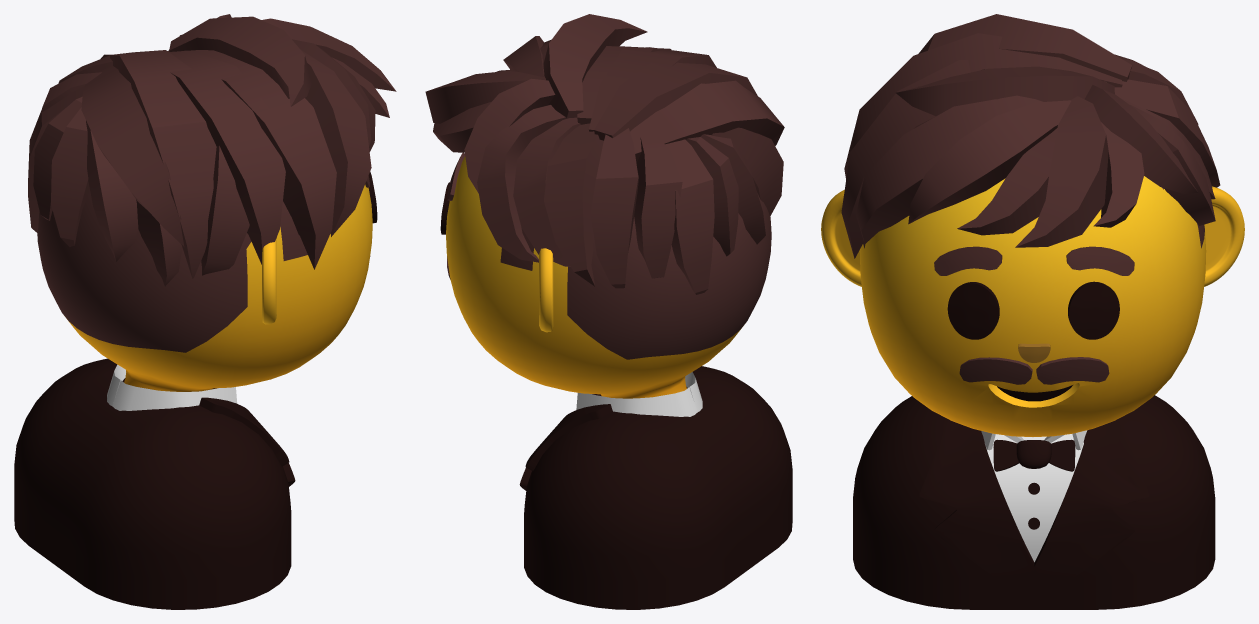
The model's file is Man in Tuxedo.gltf.
3 renders of one model, left to right at view 1: azimuth 30°, elevation 25°; view 2: azimuth 150°, elevation 25°; view 3: azimuth 270°, elevation 25°, orthographic. The views are drawn at different scales.
Visible parts, largest first — view 1: Cube.2139, Sphere.143, Roundcube.172, Plane.087, Circle.868, Cylinder.140; view 2: Cube.2139, Sphere.143, Roundcube.172, Plane.087, Circle.868, Cylinder.140; view 3: Cube.2139, Roundcube.172, Sphere.143, Circle.868, Circle.865, Cylinder.140, Circle.871, Circle.867, Circle.869, Cube.2147.
Part boxes in pixels (left/top/right/bottom): Cube.2139: left=28, top=14, right=396, bottom=286; Sphere.143: left=14, top=358, right=291, bottom=609; Roundcube.172: left=37, top=184, right=372, bottom=391; Plane.087: left=107, top=364, right=237, bottom=410; Circle.868: left=199, top=397, right=295, bottom=486; Cylinder.140: left=262, top=237, right=276, bottom=324; Cube.2139: left=425, top=14, right=784, bottom=294; Sphere.143: left=524, top=366, right=792, bottom=609; Roundcube.172: left=446, top=156, right=771, bottom=398; Plane.087: left=576, top=372, right=702, bottom=416; Circle.868: left=519, top=404, right=612, bottom=490; Cylinder.140: left=539, top=248, right=553, bottom=332; Cube.2139: left=841, top=14, right=1220, bottom=258; Roundcube.172: left=859, top=176, right=1206, bottom=436; Sphere.143: left=853, top=395, right=1215, bottom=609; Circle.868: left=919, top=418, right=1149, bottom=590; Circle.865: left=947, top=281, right=1119, bottom=339; Cylinder.140: left=821, top=186, right=1244, bottom=286; Circle.871: left=959, top=357, right=1109, bottom=384; Circle.867: left=934, top=246, right=1134, bottom=275; Circle.869: left=993, top=439, right=1075, bottom=471; Cube.2147: left=1016, top=440, right=1051, bottom=468.
Size of the model in its own units: 1.77 by 2.47 by 1.75.
Materials: 5 (1 with a texture image).
